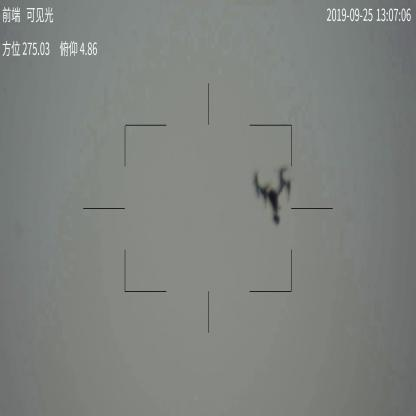uav: (245, 165, 294, 224)
